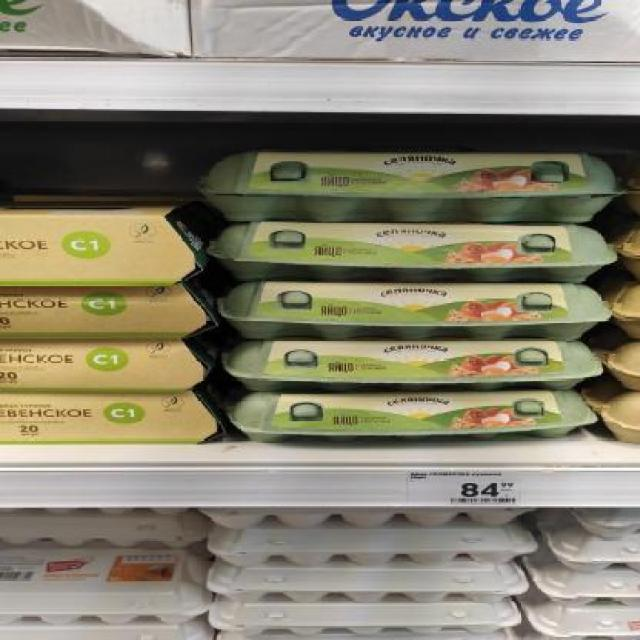Egg: (193, 143, 629, 222), (205, 221, 621, 284), (220, 279, 609, 338), (223, 339, 604, 392), (227, 390, 596, 442), (0, 546, 211, 625)
